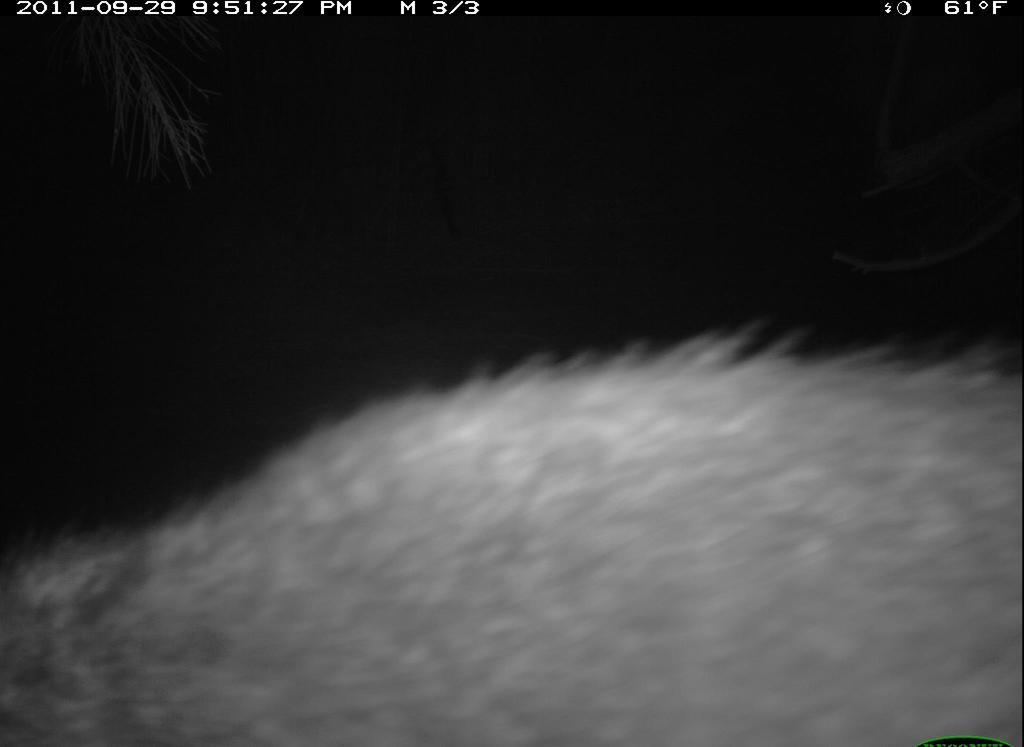raccoon: (6, 308, 1021, 747)
